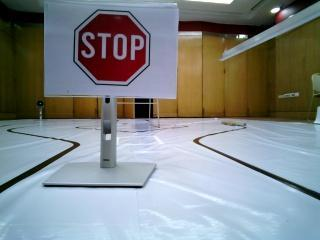stop: (46, 3, 171, 85)
